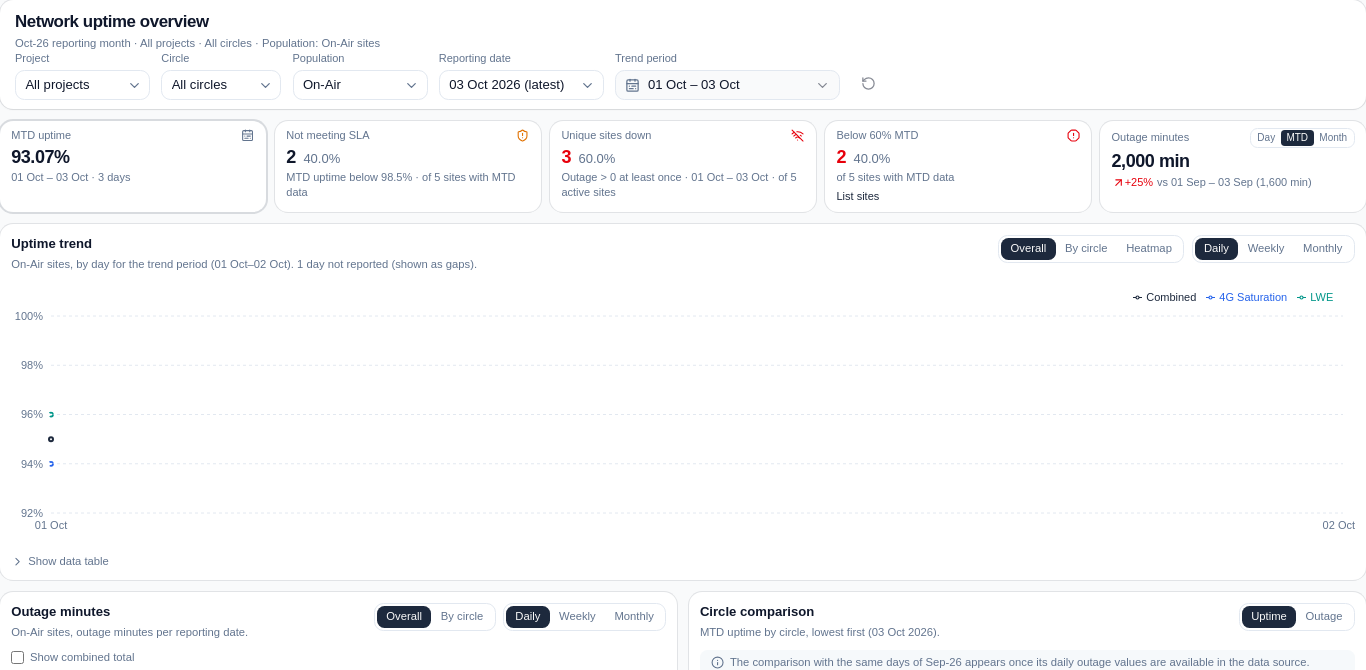
Test: DashboardPage › switches the trend between daily, weekly and monthly views
What coordinates should you click on to do the following:
click the button "Weekly" in the row of "Uptime trend"
I would click on:
 (1266, 249)
Its box is [1238,238,1294,260].
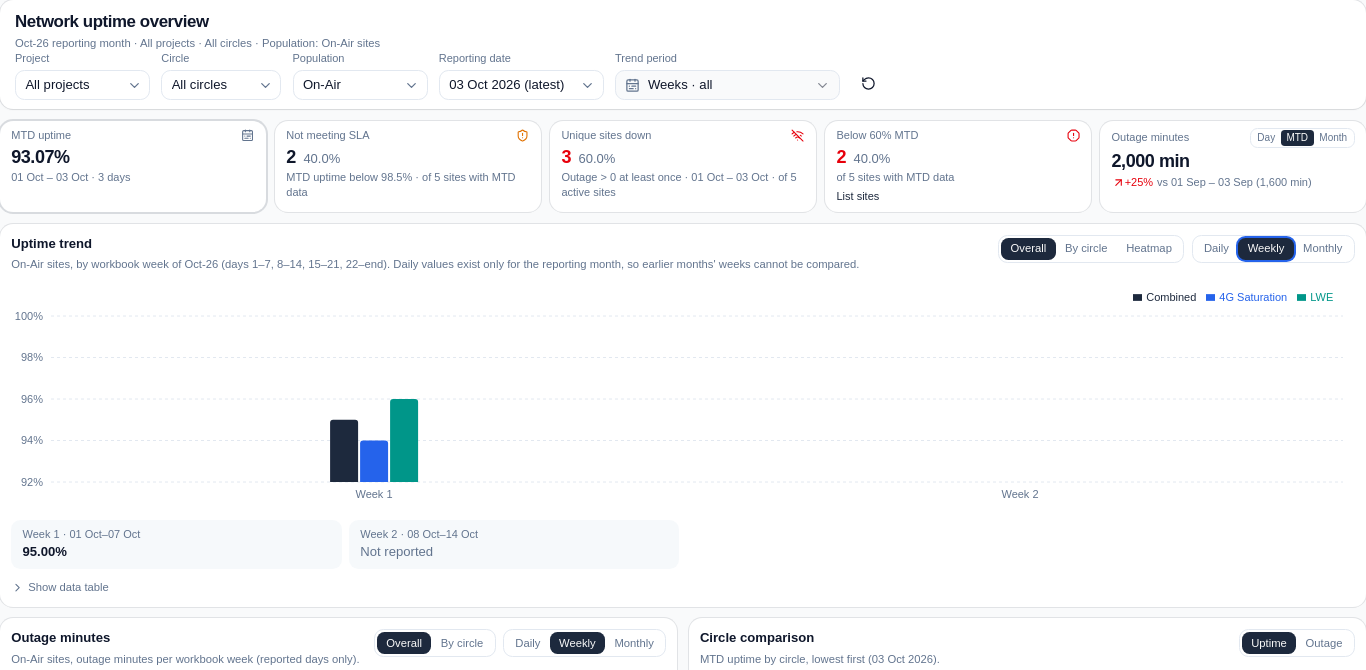
Expected: the text "Not reported" is shown, [360,543,433,562]
Now the text "95.00%" is shown, box [22,544,67,559]
What coordinates should you click on to do the following:
click the button "Monthly" in the row of "Uptime trend"
I would click on:
 (1323, 249)
Its box is [1294,238,1352,260].
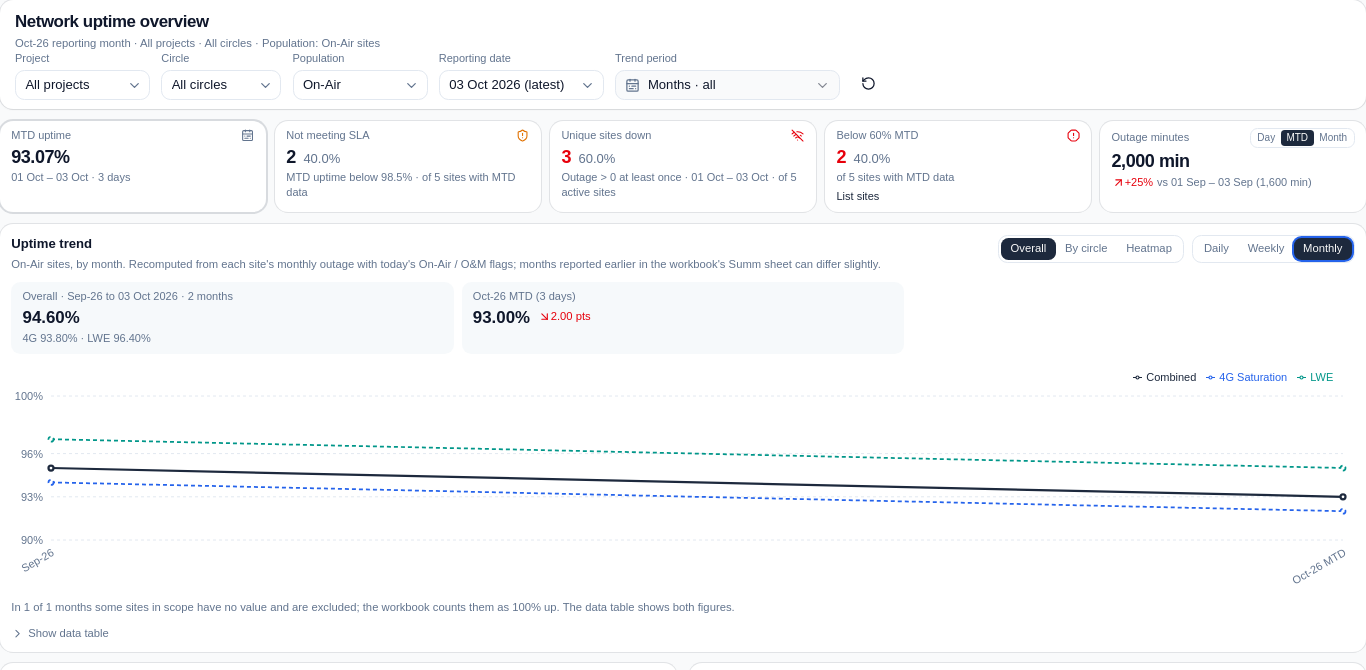
Now the text "Overall · Sep-26 to 03 Oct 2026 · 2 months" is shown, box [22,290,233,302]
Now the text "94.60%" is shown, box [22,308,80,327]
Now the text "4G 93.80% · LWE 96.40%" is shown, box [22,332,151,344]
